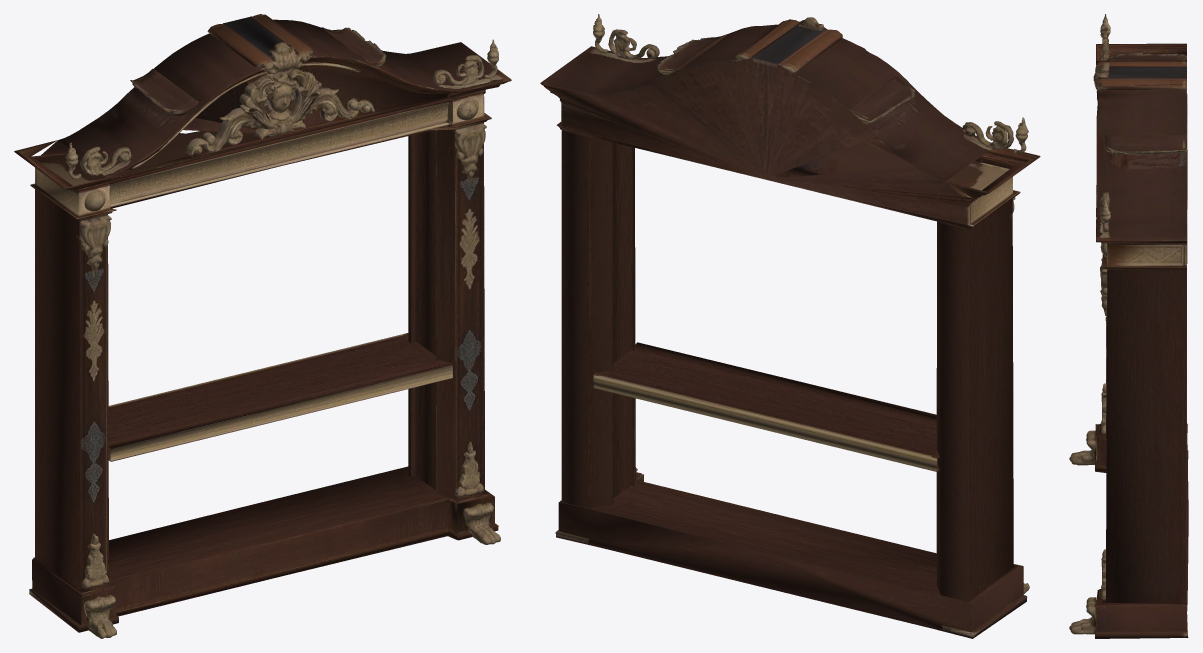
File: cabinet.glb
3 views of the same model, side by side, from view 1: azimuth 30°, elevation 25°; view 2: azimuth 150°, elevation 25°; view 3: azimuth 270°, elevation 25° (orthographic). The views are drawn at different scales.
Visible parts, largest first — view 1: midway-fit; view 2: midway-fit; view 3: midway-fit.
Part boxes in pixels (bbox=[...]): midway-fit: bbox=[14, 14, 511, 638]; midway-fit: bbox=[540, 14, 1040, 638]; midway-fit: bbox=[1069, 14, 1188, 638].
Size of the model in its own units: 0.876 by 1 by 0.2245.
1 material, 1 textured.
